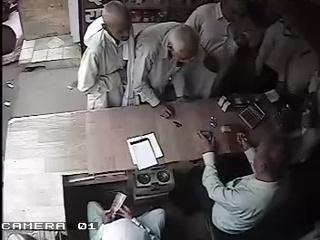Normal: (200, 130, 294, 240), (130, 22, 200, 118), (183, 1, 234, 100), (88, 192, 166, 240)
shoplifting: (74, 1, 134, 110)
